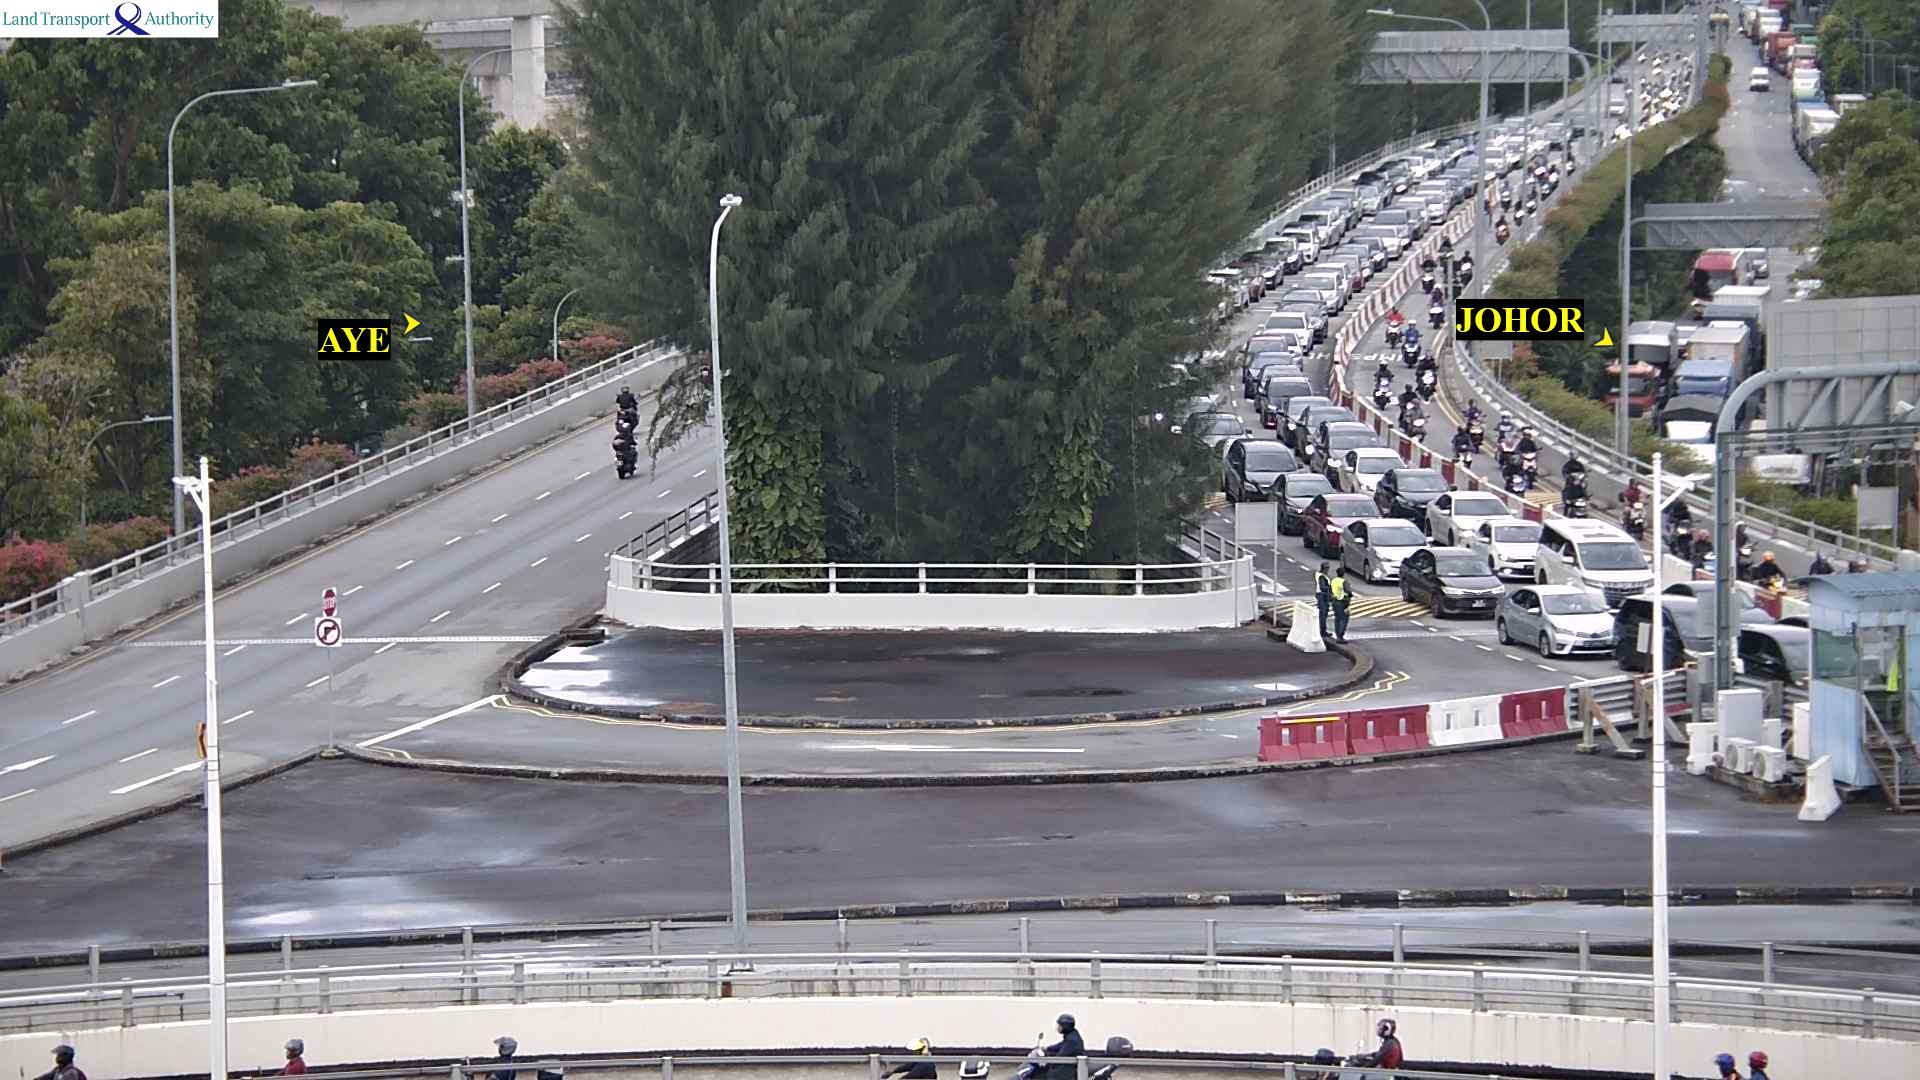vehicle-secondlink-johor: (1610, 581, 1806, 641), (1502, 588, 1651, 653), (1402, 553, 1503, 611), (1454, 524, 1575, 566), (1341, 523, 1441, 573), (1422, 496, 1537, 536), (1224, 444, 1307, 496), (1304, 500, 1406, 541), (1372, 470, 1456, 513), (1317, 428, 1404, 466), (1270, 474, 1347, 513), (1181, 416, 1259, 452), (1336, 453, 1410, 490), (1354, 215, 1423, 251), (1287, 405, 1360, 439), (1253, 383, 1323, 415), (1277, 282, 1347, 312), (1748, 556, 1795, 594), (1252, 318, 1313, 347), (1564, 458, 1595, 500), (1297, 211, 1337, 242), (1212, 269, 1246, 303), (1372, 368, 1399, 409), (1243, 253, 1283, 280), (1371, 168, 1415, 192), (1230, 265, 1265, 294), (1281, 229, 1317, 257), (1265, 239, 1296, 269), (1404, 382, 1421, 433), (1403, 315, 1424, 356), (1414, 190, 1441, 218), (1464, 396, 1482, 436), (1334, 187, 1359, 215), (1419, 352, 1437, 389), (1316, 200, 1349, 220), (1405, 199, 1428, 226), (1355, 181, 1377, 209), (1396, 155, 1423, 176), (1421, 183, 1448, 204), (1447, 169, 1471, 192), (1284, 221, 1313, 240), (1412, 148, 1438, 169), (1385, 303, 1402, 335), (1486, 147, 1506, 171), (1454, 426, 1467, 461), (1544, 124, 1563, 146), (1435, 178, 1459, 195), (1505, 141, 1522, 165), (1569, 114, 1583, 138), (1529, 159, 1545, 179), (1504, 118, 1524, 134), (1431, 292, 1441, 323), (1422, 260, 1432, 289), (1462, 251, 1472, 279), (1496, 217, 1507, 242), (1567, 149, 1576, 176), (1514, 195, 1521, 229), (1501, 181, 1510, 205), (1612, 100, 1623, 118), (1443, 235, 1451, 258)
vehicle-secondlink-singapore: (611, 390, 646, 428), (1750, 1050, 1776, 1079)
